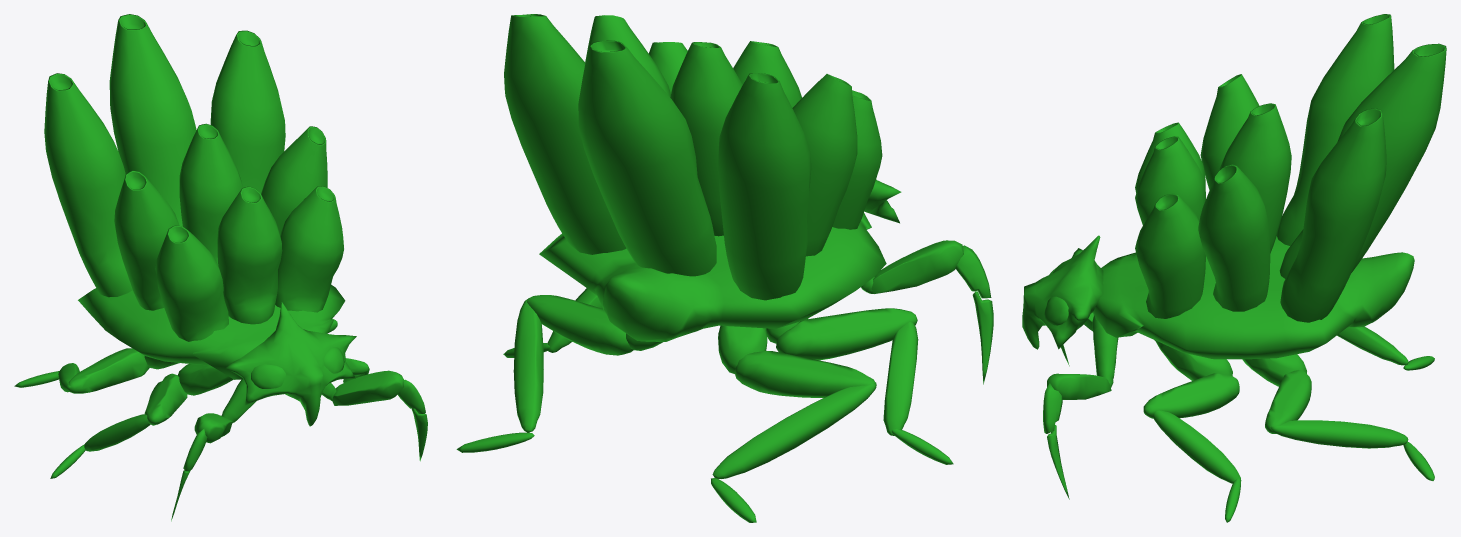
Rendered from OrganBug_Low.fbx.
The picture shows the model from 3 angles, left to right: view 1: azimuth 30°, elevation 25°; view 2: azimuth 150°, elevation 25°; view 3: azimuth 270°, elevation 25°; orthographic projection. The views are drawn at different scales.
Visible parts, largest first — view 1: Tower_Copy7, Tower_Copy6, Tower1:polySurface15, Tower_Copy5, Tower1:Tower_Copy, Tower_Copy, Tower1:polySurface10, Tower_Copy1, Tower_Copy4, Tower_Copy3, Tower_Copy2, Tower1:polySurface5 (+7 smaller); view 2: Tower_Copy6, Tower1:polySurface15, Tower_Copy7, Tower_Copy5, polySurface2, polySurface3, Tower_Copy4, Tower_Copy3, Tower1:polySurface2, Tower1:polySurface3, Tower_Copy1, Tower1:polySurface5 (+8 smaller); view 3: Tower1:polySurface15, Tower_Copy5, Tower_Copy6, Tower_Copy7, Tower_Copy2, Tower_Copy, Tower_Copy3, Tower1:polySurface10, polySurface3, Tower1:Tower_Copy, Tower_Copy4, Tower1:polySurface2 (+10 smaller).
Boxes of the visible parts, x1,y1,x2,y2 form: Tower_Copy7: (44,73,132,297); Tower_Copy6: (109,14,196,226); Tower1:polySurface15: (78,284,345,379); Tower_Copy5: (210,30,285,193); Tower1:Tower_Copy: (217,186,282,324); Tower_Copy: (275,186,343,312); Tower1:polySurface10: (225,302,356,426); Tower_Copy1: (155,225,228,341); Tower_Copy4: (114,170,179,310); Tower_Copy3: (179,123,242,265); Tower_Copy2: (261,126,327,235); Tower1:polySurface5: (194,370,403,443); Tower_Copy6: (578,40,716,276); Tower1:polySurface15: (539,212,886,341); Tower_Copy7: (718,73,811,300); Tower_Copy5: (504,14,626,254); polySurface2: (527,295,876,397); polySurface3: (513,299,876,478); Tower_Copy4: (792,74,857,256); Tower_Copy3: (670,42,742,236); Tower1:polySurface2: (776,308,917,360); Tower1:polySurface3: (547,288,918,435); Tower_Copy1: (832,90,882,229); Tower1:polySurface5: (871,240,963,293); Tower1:polySurface15: (1093,236,1414,359); Tower_Copy5: (1280,108,1386,322); Tower_Copy6: (1279,43,1446,278); Tower_Copy7: (1276,14,1394,245); Tower_Copy2: (1198,164,1270,311); Tower_Copy: (1135,193,1205,318); Tower_Copy3: (1219,103,1291,253); Tower1:polySurface10: (1022,235,1103,349); polySurface3: (1270,326,1408,448); Tower1:Tower_Copy: (1135,136,1205,225); Tower_Copy4: (1200,74,1259,190); Tower1:polySurface2: (1143,373,1239,418).
Bounding box in the file's own units: 103 × 99.75 × 99.34.
